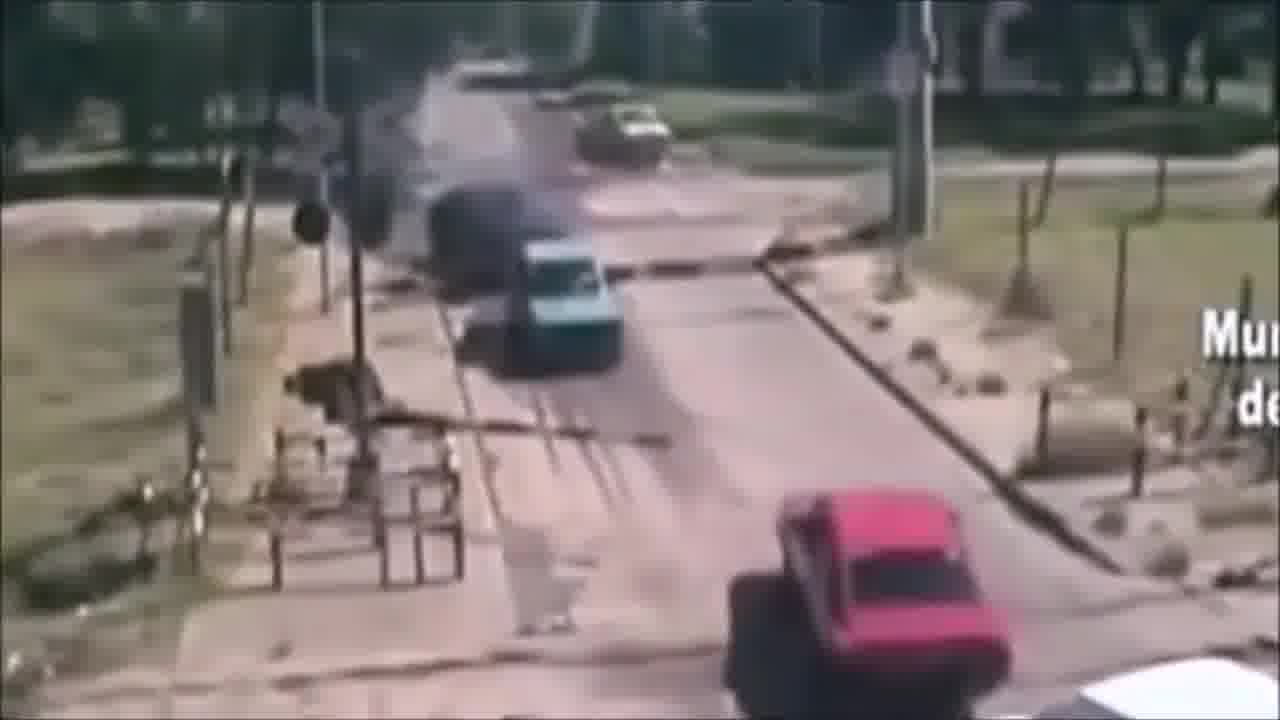crossing railway track: (744, 445, 1027, 710)
